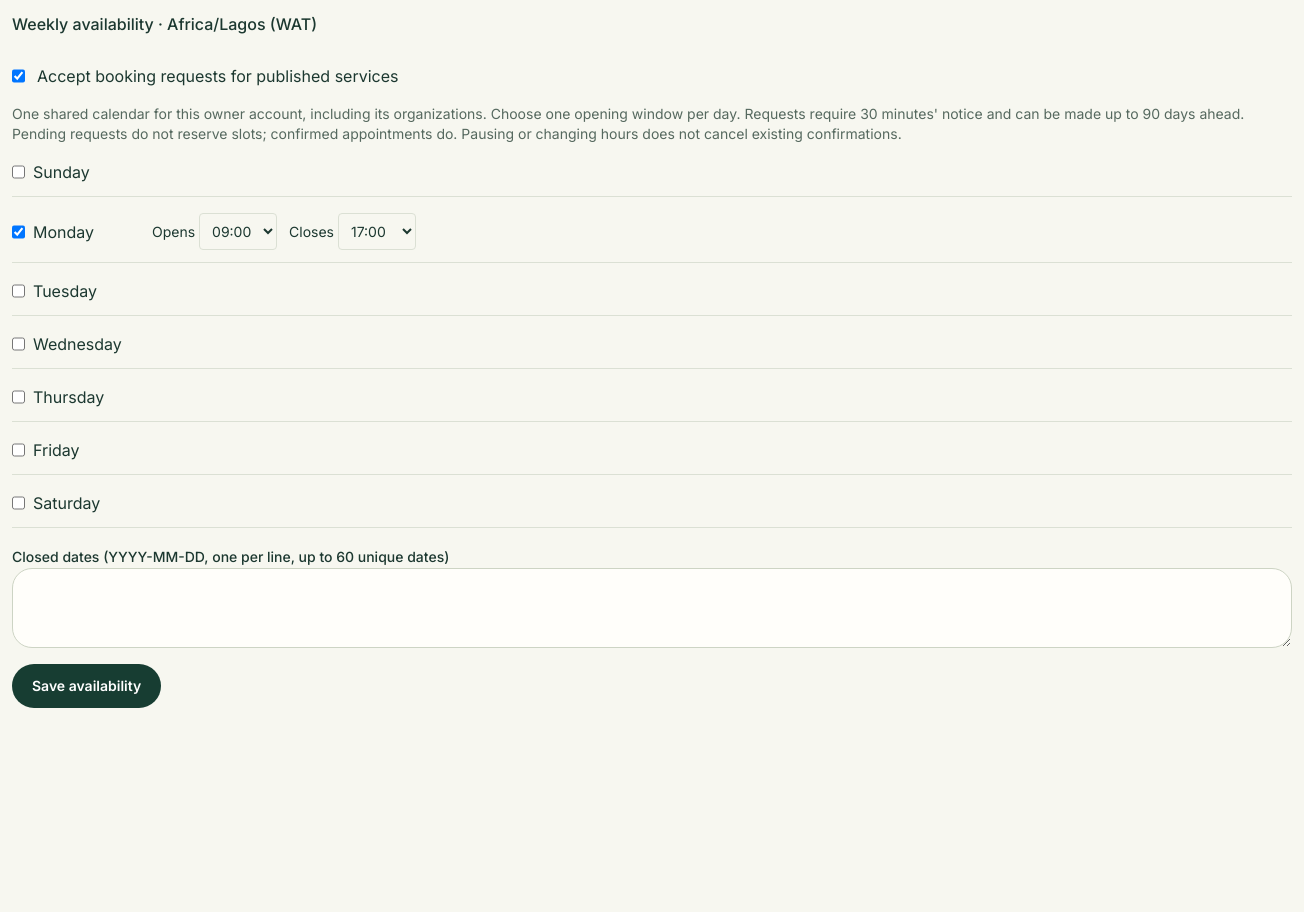
Test case: does not claim success without an acknowledged new version
Click the button "Save availability": (87, 686) [12, 664, 161, 708]
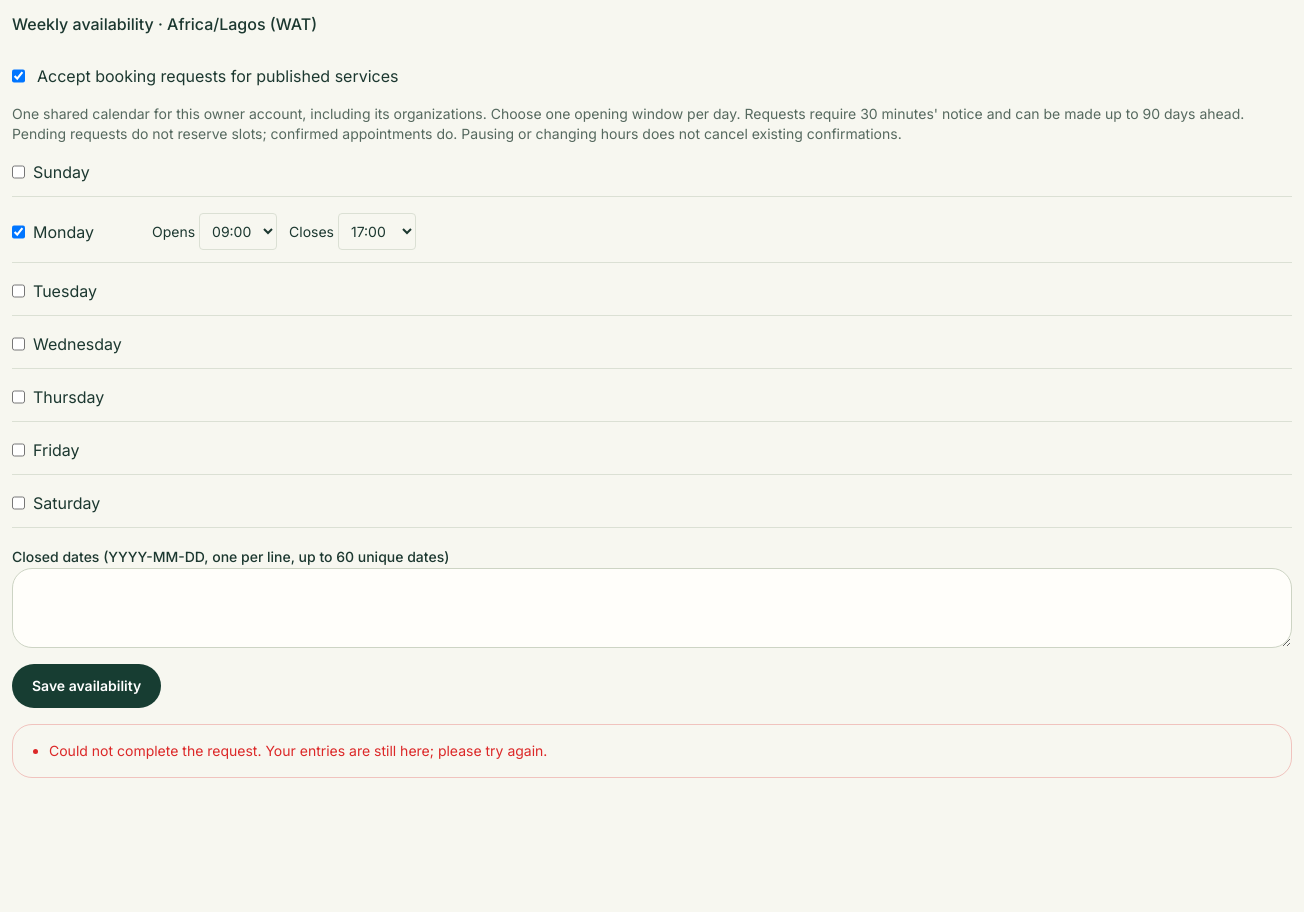
Expected: the message "Could not complete the request. Your entries are still here; please try again." is shown, [12, 724, 1292, 778]
